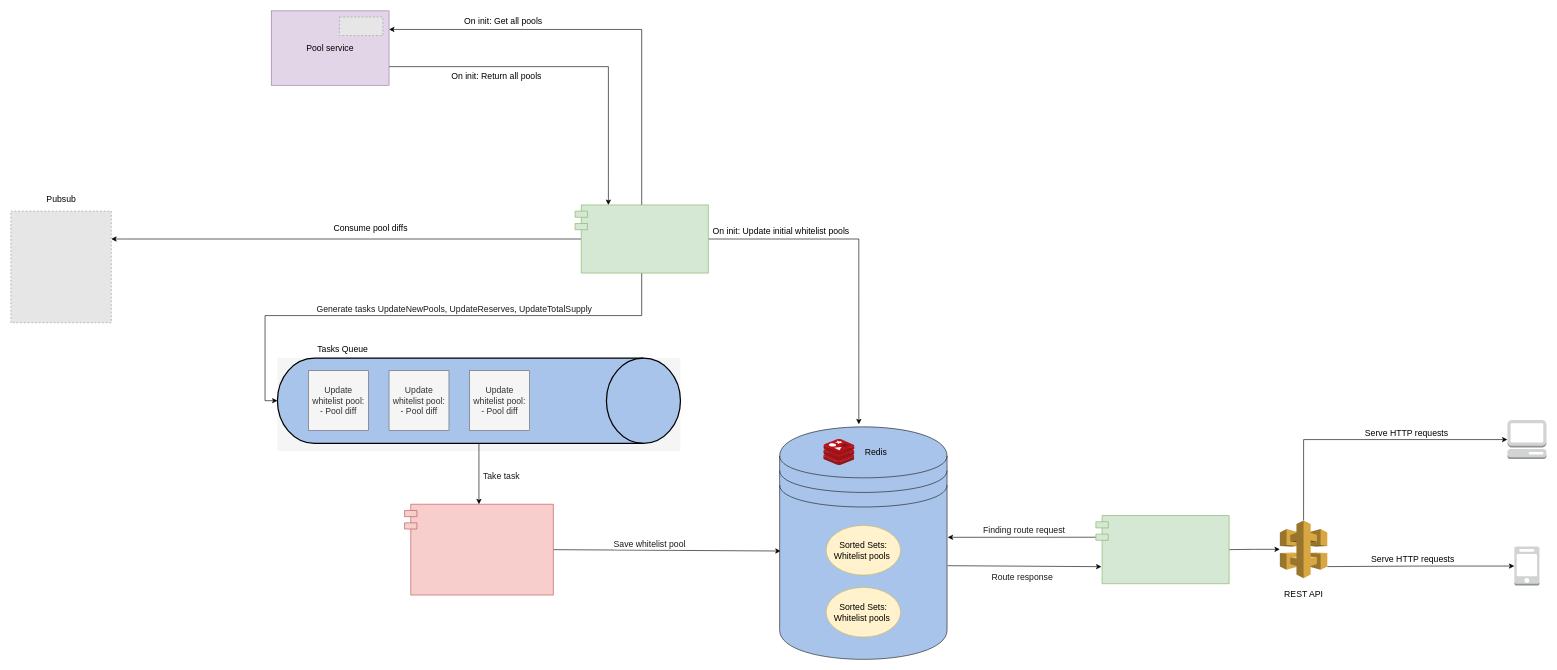
Image size: 1557x670. Some labels were removed from this diagram. Grey dashed boxes stand in for pictures. The centre of each missing label's shape, as x and y in pixels:
"Finding Route API Service" belongs at point (1162, 549).
"Finding Route Service Master" belongs at point (641, 238).
"Finding Route Service Worker - Update whitelist pools to sorted set" belongs at point (478, 549).
